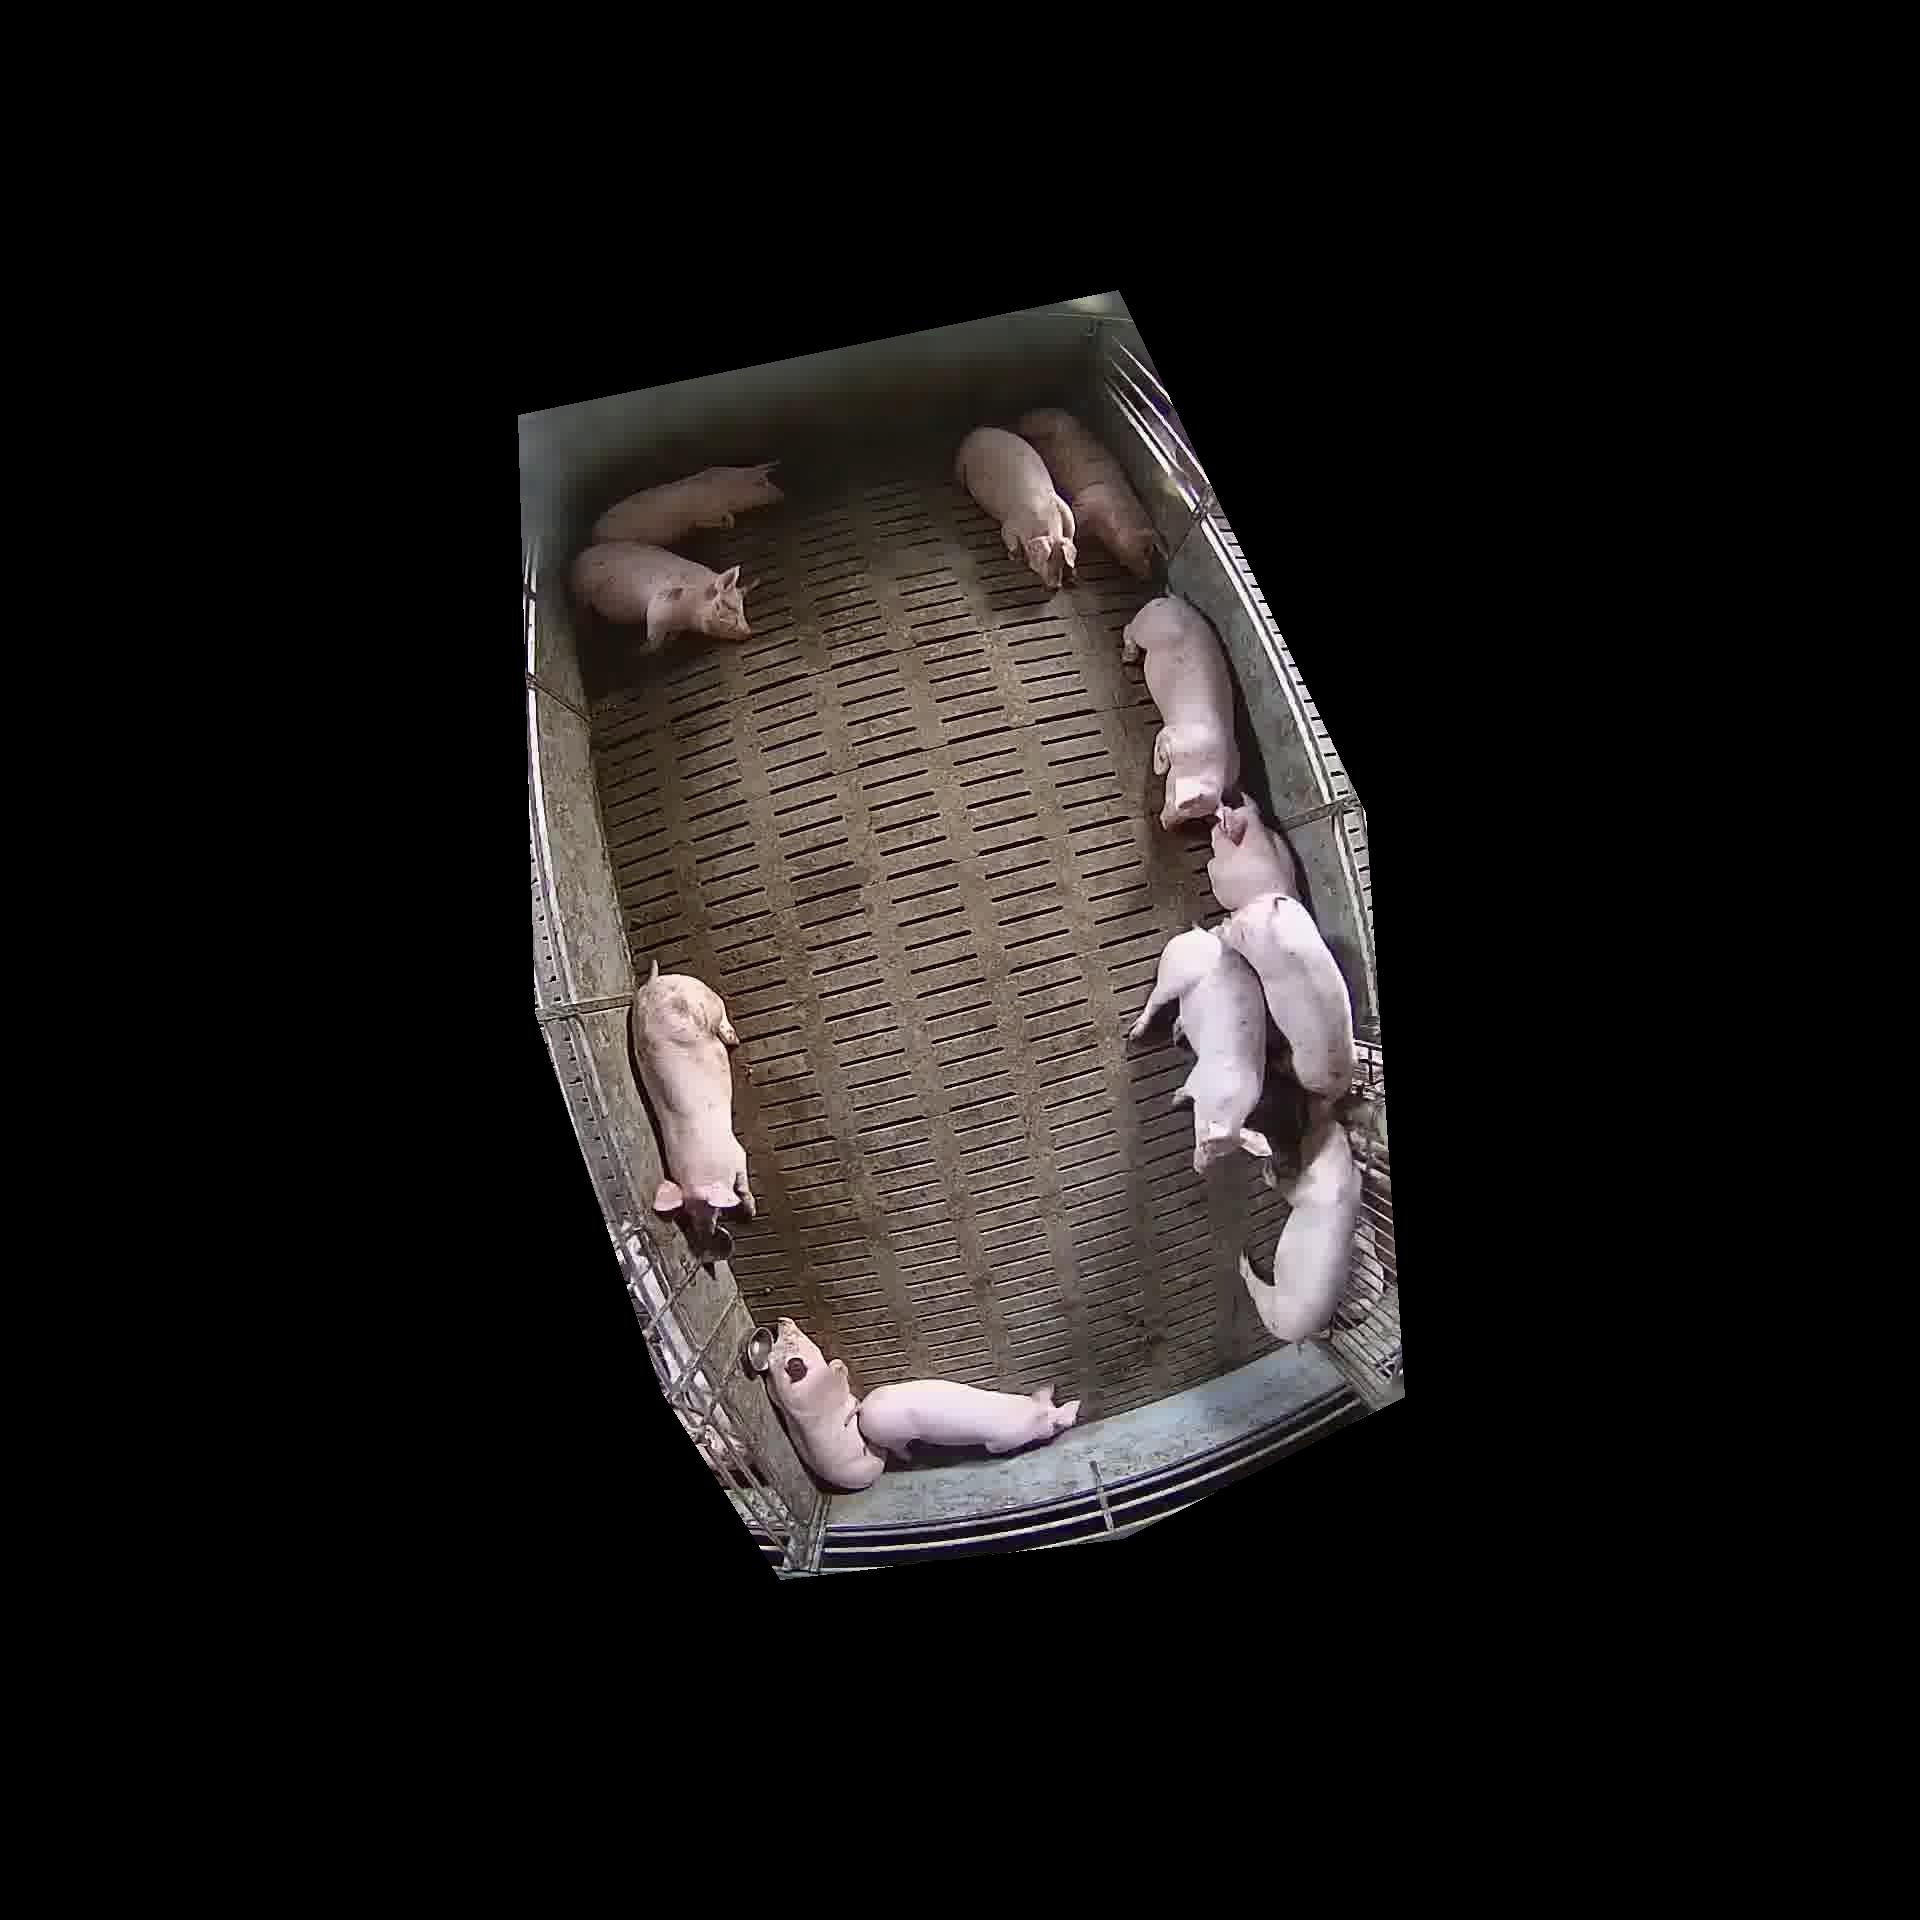pig: (767, 1317, 1080, 1489), (1131, 927, 1271, 1173), (633, 964, 753, 1218), (1220, 893, 1354, 1099), (1240, 1118, 1361, 1342), (1124, 594, 1240, 826), (1020, 410, 1160, 577), (767, 1317, 883, 1489), (571, 542, 751, 651), (955, 427, 1074, 589), (858, 1378, 1080, 1458), (593, 462, 782, 545), (1208, 796, 1296, 911)
